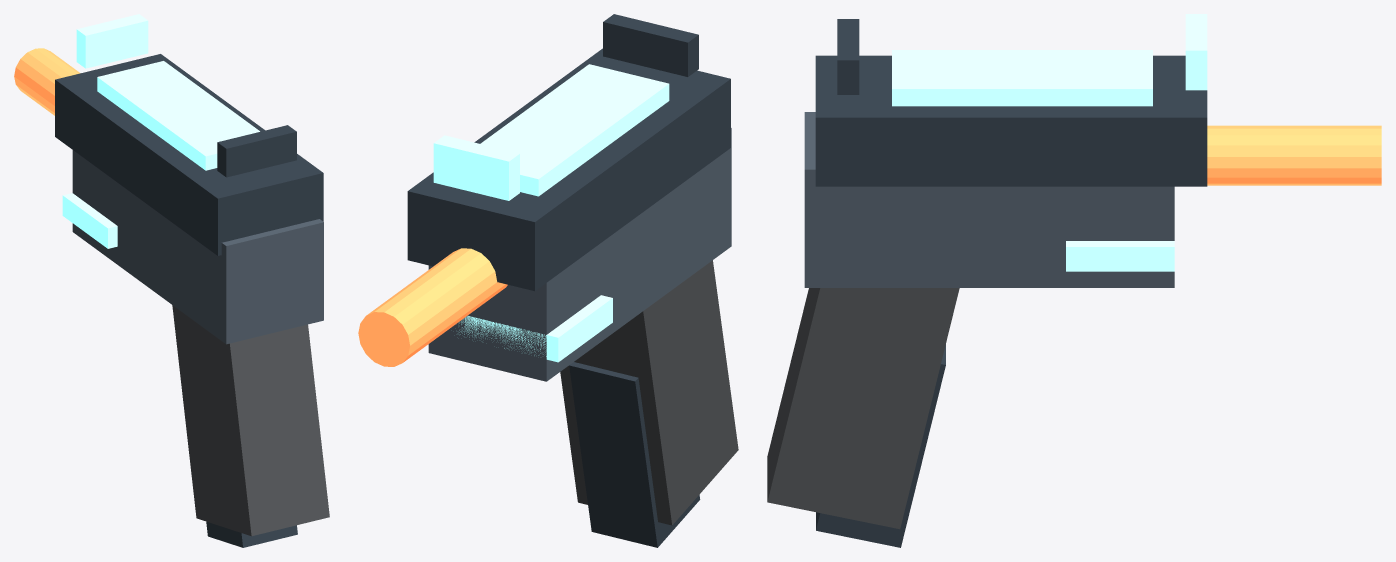
File: pulse_pistol.glb
3 views of the same model, side by side, from view 1: azimuth 30°, elevation 25°; view 2: azimuth 150°, elevation 25°; view 3: azimuth 270°, elevation 25° (orthographic). The views are drawn at different scales.
Visible parts, largest first — view 1: grip, receiver, slide, topEnergyRail, frontSight, rearSight, barrel, powerCell, magazine; view 2: slide, receiver, grip, magazine, topEnergyRail, barrel, frontSight, rearSight, powerCell; view 3: slide, receiver, grip, topEnergyRail, barrel, powerCell, magazine, frontSight, rearSight.
Part boxes in pixels (bbox=[...]): grip: bbox=[172, 305, 329, 536]; receiver: bbox=[72, 150, 323, 344]; slide: bbox=[55, 54, 323, 255]; topEnergyRail: bbox=[97, 61, 259, 170]; frontSight: bbox=[76, 14, 148, 68]; rearSight: bbox=[217, 125, 296, 177]; barrel: bbox=[14, 48, 80, 115]; powerCell: bbox=[62, 193, 117, 248]; magazine: bbox=[206, 521, 297, 547]; slide: bbox=[407, 48, 730, 291]; receiver: bbox=[428, 128, 731, 381]; grip: bbox=[560, 260, 738, 525]; magazine: bbox=[569, 362, 700, 547]; topEnergyRail: bbox=[480, 64, 669, 196]; barrel: bbox=[358, 248, 507, 366]; frontSight: bbox=[433, 135, 519, 200]; rearSight: bbox=[603, 14, 698, 76]; powerCell: bbox=[459, 295, 612, 362]; slide: bbox=[815, 55, 1207, 186]; receiver: bbox=[804, 112, 1174, 287]; grip: bbox=[767, 288, 959, 529]; topEnergyRail: bbox=[892, 50, 1152, 106]; barrel: bbox=[1207, 125, 1381, 185]; powerCell: bbox=[1066, 241, 1174, 271]; magazine: bbox=[816, 344, 945, 547]; frontSight: bbox=[1185, 14, 1207, 90]; rearSight: bbox=[837, 19, 859, 94].
Size of the model in its own units: 0.3 by 1.01 by 1.13.
